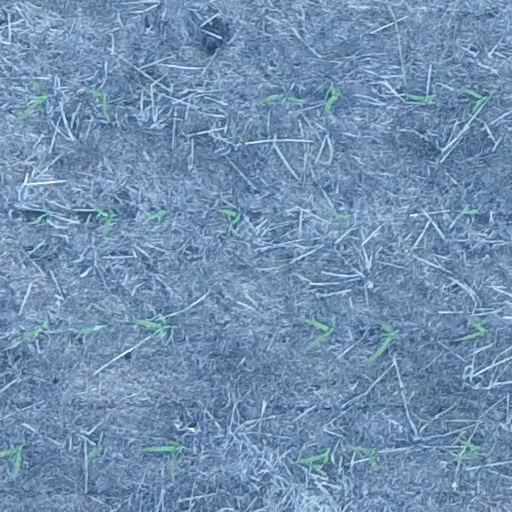planta: (16, 79, 49, 120), (141, 440, 182, 471), (297, 315, 334, 347), (11, 320, 50, 348), (371, 319, 397, 359), (86, 201, 115, 236), (85, 86, 111, 121), (293, 446, 330, 470), (130, 316, 169, 338), (452, 438, 483, 463), (344, 442, 377, 465), (459, 320, 492, 340), (258, 91, 302, 105), (460, 87, 486, 109), (322, 85, 341, 114), (405, 91, 436, 104), (76, 322, 105, 335), (219, 208, 241, 225), (329, 209, 351, 224), (143, 209, 166, 222), (86, 441, 101, 459)
